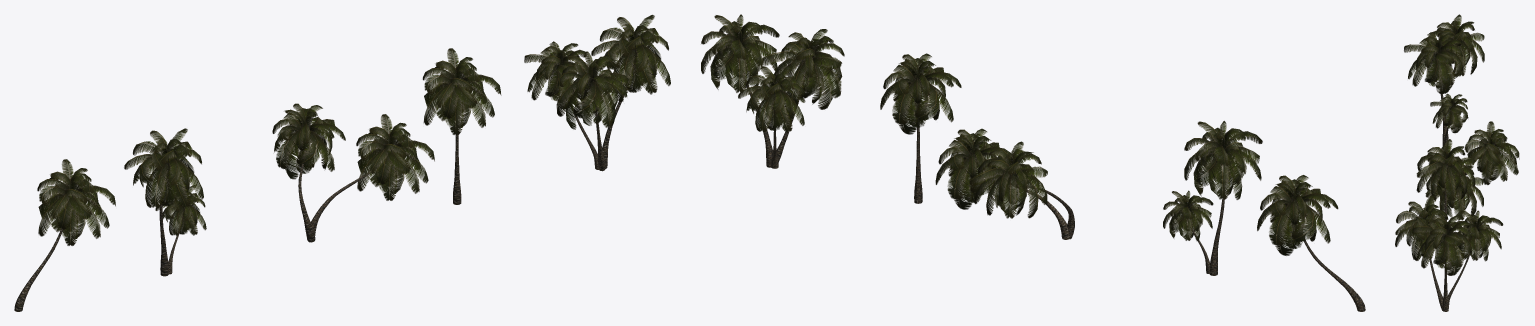
File: coqueiros.glb
3 renders of one model, left to right at view 1: azimuth 30°, elevation 25°; view 2: azimuth 150°, elevation 25°; view 3: azimuth 270°, elevation 25°, orthographic. The views are drawn at different scales.
Visible parts, largest first — view 1: palm_trio_palm_trio, palm_dual_bend_palm_dual_bend, palm_dual_palm_dual, palm_bend_palm_bend, palm_straight_palm_straight; view 2: palm_trio_palm_trio, palm_dual_bend_palm_dual_bend, palm_dual_palm_dual, palm_bend_palm_bend, palm_straight_palm_straight; view 3: palm_trio_palm_trio, palm_dual_bend_palm_dual_bend, palm_dual_palm_dual, palm_straight_palm_straight, palm_bend_palm_bend.
Part boxes in pixels (left/top/right/bottom): palm_trio_palm_trio: left=524, top=14, right=670, bottom=171; palm_dual_bend_palm_dual_bend: left=272, top=103, right=434, bottom=242; palm_dual_palm_dual: left=124, top=128, right=206, bottom=276; palm_bend_palm_bend: left=14, top=159, right=115, bottom=311; palm_straight_palm_straight: left=422, top=48, right=501, bottom=204; palm_trio_palm_trio: left=701, top=14, right=844, bottom=168; palm_dual_bend_palm_dual_bend: left=935, top=128, right=1074, bottom=239; palm_dual_palm_dual: left=1163, top=121, right=1262, bottom=275; palm_bend_palm_bend: left=1257, top=175, right=1365, bottom=311; palm_straight_palm_straight: left=880, top=53, right=961, bottom=203; palm_trio_palm_trio: left=1395, top=195, right=1503, bottom=311; palm_dual_bend_palm_dual_bend: left=1425, top=121, right=1519, bottom=220; palm_dual_palm_dual: left=1404, top=32, right=1468, bottom=145; palm_straight_palm_straight: left=1416, top=139, right=1475, bottom=221; palm_bend_palm_bend: left=1427, top=14, right=1484, bottom=91.
Size of the model in its own units: 40.06 by 8.64 by 8.8.
Materials: 1 (1 with a texture image).
